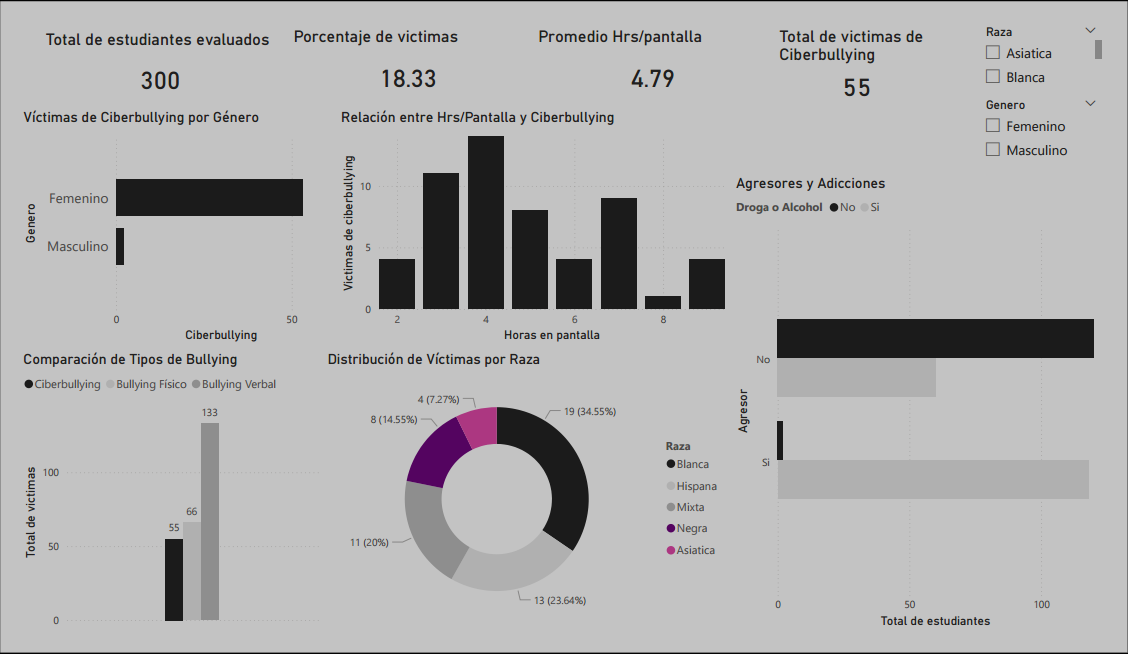

This screenshot's page, from the dashboard's own definition file:
{"tool":"powerbi","page":{"name":"Página 1","canvas":[1280,720],"ordinal":0},"visuals":[{"type":"card","title":"Total de estudiantes evaluados","fields":{"Values":["variables.Total_Estudiantes"]},"box":[25.6,10.8,280,92.9],"z":0},{"type":"card","title":"Porcentaje de victimas","fields":{"Values":["variables.Pct_Victimas_Ciber"]},"box":[318.4,6.7,279.3,97.1],"z":1000},{"type":"card","title":"Promedio Hrs/pantalla","fields":{"Values":["variables.Promedio_Horas_Pantalla"]},"box":[605.7,6.7,280.6,97.1],"z":2000},{"type":"clusteredBarChart","title":"Víctimas de Ciberbullying por Género","fields":{"Category":["variables.Genero"],"Y":["variables.Victimas_Ciber"]},"box":[0,103.7,374.3,280],"z":3000},{"type":"columnChart","title":"Relación entre Hrs/Pantalla y Ciberbullying","fields":{"Category":["variables.Horas_Pantalla_Dia"],"Y":["variables.Victimas_Ciber"]},"box":[374.3,103.7,461.8,280],"z":4000},{"type":"donutChart","title":"Distribución de Víctimas por Raza","fields":{"Category":["variables.Raza"],"Y":["variables.Victimas_Ciber"]},"box":[358.1,389.1,477.9,331.2],"z":5000},{"type":"card","title":"Total de victimas de Ciberbullying","fields":{"Values":["variables.Victimas_Ciber"]},"box":[890.4,6.7,191.6,97.1],"z":6000},{"type":"clusteredBarChart","title":"Agresores y Adicciones","fields":{"Category":["variables.Bully_Agresor"],"Y":["variables.Total_Estudiantes"],"Series":["variables.Droga_Alcohol"]},"box":[839.1,180.8,441.1,539.6],"z":7000},{"type":"clusteredColumnChart","title":" Comparación de Tipos de Bullying","fields":{"Y":["variables.Victimas_Ciber","variables.Victimas_Fisico","variables.Victimas_Verbal"]},"box":[0,389.1,358.1,331.2],"z":8000},{"type":"slicer","fields":{"Values":["variables.Genero"]},"box":[1124.5,85.8,155.5,94.5],"z":9000},{"type":"slicer","fields":{"Values":["variables.Raza"]},"box":[1124.5,0,155.5,85.8],"z":9001}]}

Visuals, with their boxes in screenshot pixels (x1, y1, x2, y2), scaled from the page's 1280x720 canvas onto the 1128x654 screenshot:
"Total de estudiantes evaluados" card: 23/10/269/94
"Porcentaje de victimas" card: 281/6/527/94
"Promedio Hrs/pantalla" card: 534/6/781/94
"Víctimas de Ciberbullying por Género" clusteredBarChart: 0/94/330/349
"Relación entre Hrs/Pantalla y Ciberbullying" columnChart: 330/94/737/349
"Distribución de Víctimas por Raza" donutChart: 316/353/737/653
"Total de victimas de Ciberbullying" card: 785/6/954/94
"Agresores y Adicciones" clusteredBarChart: 739/164/1127/653
" Comparación de Tipos de Bullying" clusteredColumnChart: 0/353/316/653
slicer - variables.Genero: 991/78/1127/164
slicer - variables.Raza: 991/0/1127/78
